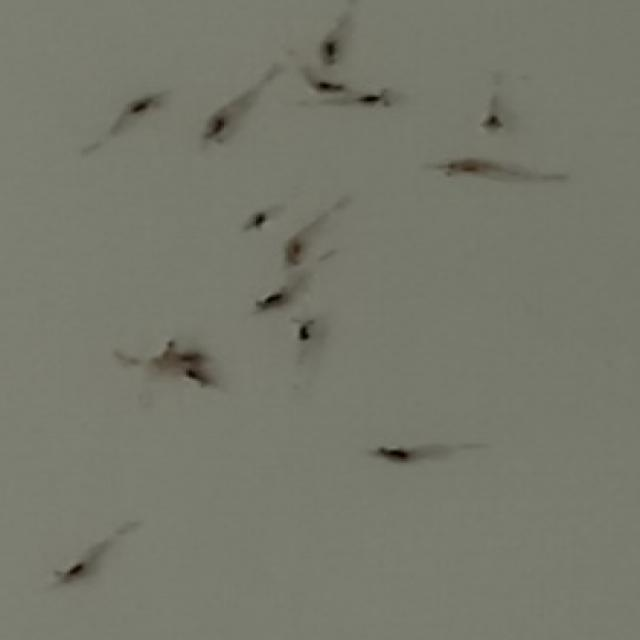shrimp-seed: (428, 150, 498, 180), (247, 280, 296, 314), (120, 90, 168, 124), (368, 439, 418, 471), (195, 110, 239, 146), (280, 316, 329, 348), (310, 33, 356, 67), (48, 556, 96, 588), (274, 231, 314, 267), (237, 200, 280, 232), (180, 361, 223, 391), (353, 84, 397, 112), (472, 108, 510, 138), (174, 344, 214, 368), (306, 74, 350, 95), (153, 333, 185, 358)
